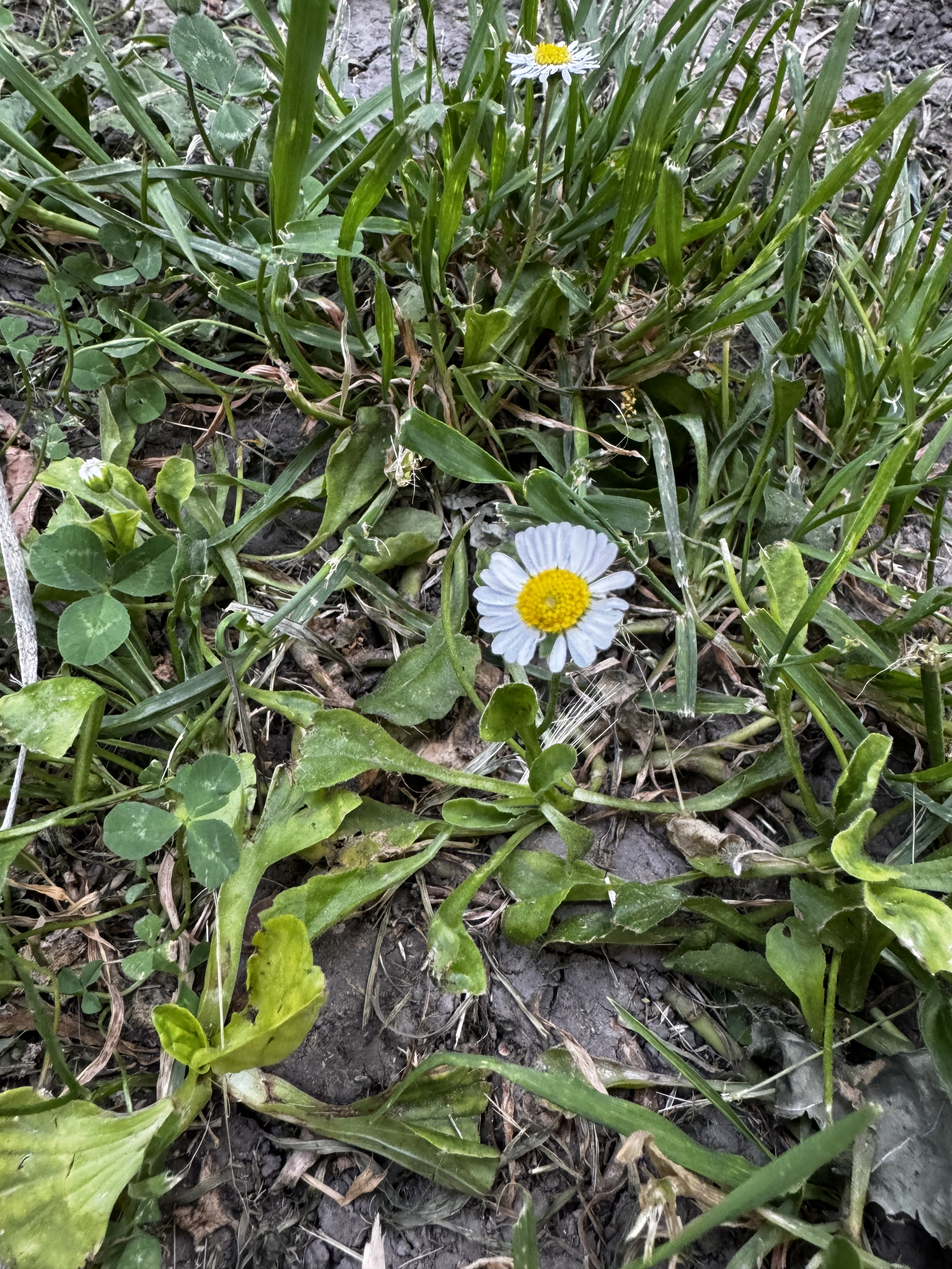daisy: (473, 511, 639, 683), (493, 23, 596, 94)
